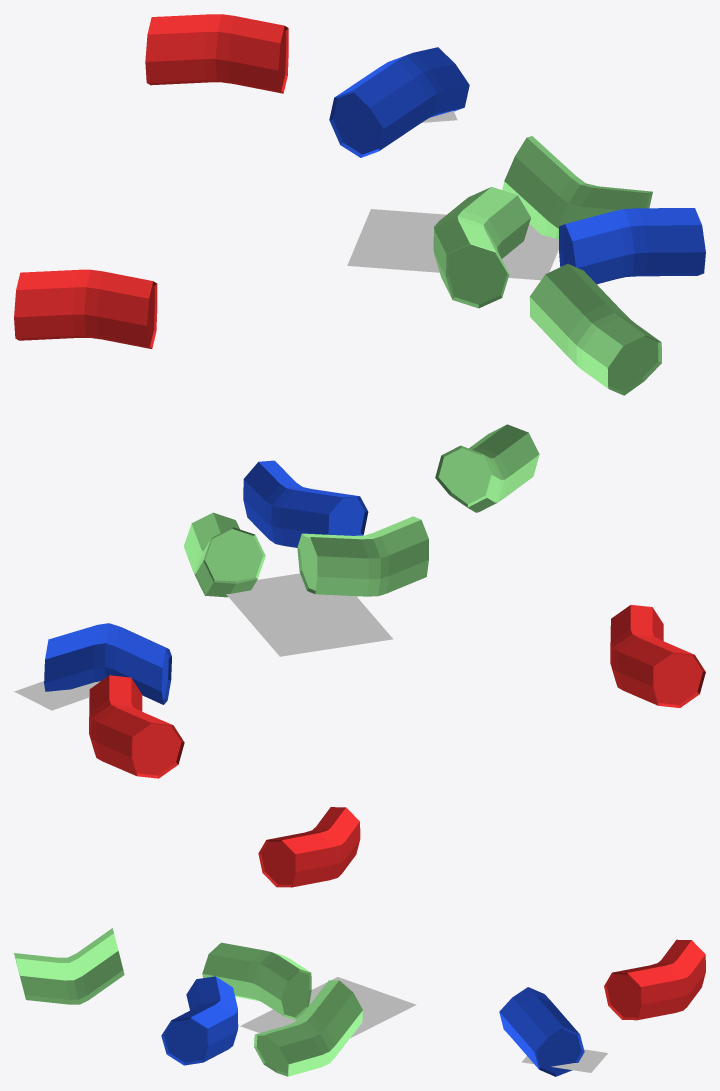
The model's file is TRASH.fbx.
3 views of the same model, one above another, from view 1: azimuth 30°, elevation 25°; view 2: azimuth 150°, elevation 25°; view 3: azimuth 270°, elevation 25° (orthographic). The views are drawn at different scales.
Visible parts, largest first — view 1: Cylinder005; view 2: Cylinder005; view 3: Cylinder005.
Boxes of the visible parts, x1,y1,x2,y2 form: Cylinder005: (14,14,705,395); Cylinder005: (14,424,705,778); Cylinder005: (14,807,705,1076).
Bounding box in the file's own units: 38.88 × 6.46 × 50.36.
